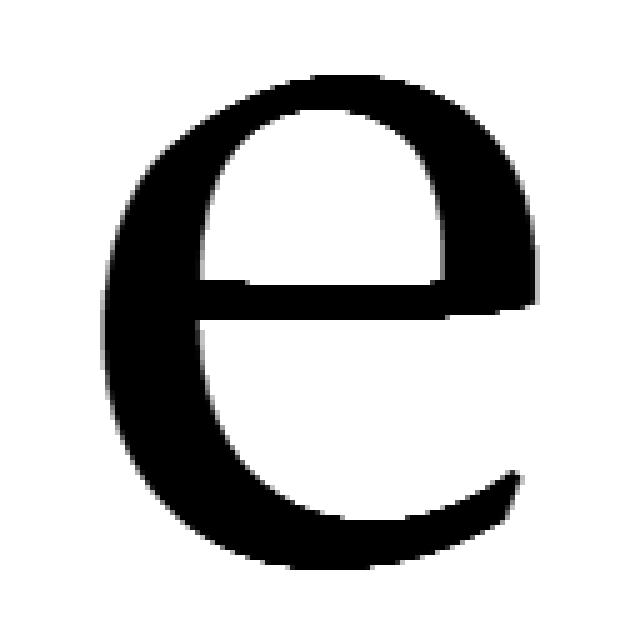E: (105, 75, 535, 570)
